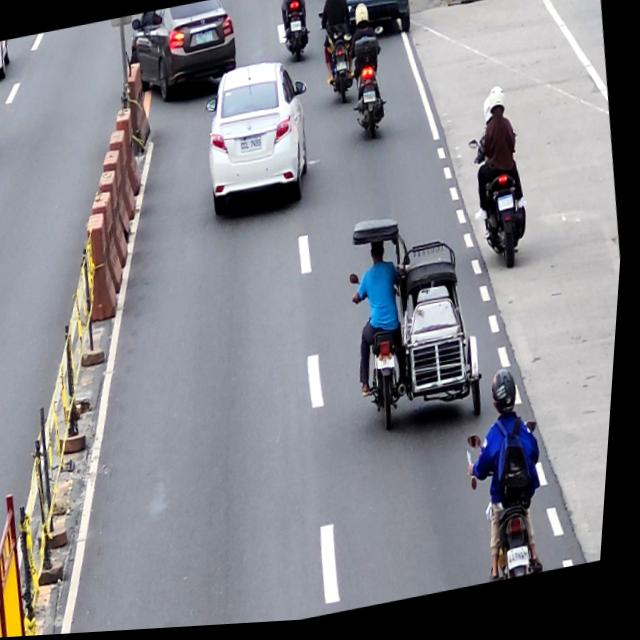Car: (196, 56, 324, 226), (121, 0, 245, 109), (329, 0, 416, 51)
License-Plate: (514, 554, 539, 578), (241, 140, 265, 156), (195, 31, 215, 48), (499, 200, 518, 217), (290, 24, 302, 37), (364, 96, 378, 107), (337, 65, 349, 76)
Motorcycle: (469, 427, 564, 592), (468, 133, 540, 279), (339, 26, 398, 149), (315, 5, 363, 112), (276, 0, 314, 65)
Tricycle: (337, 205, 503, 448)
